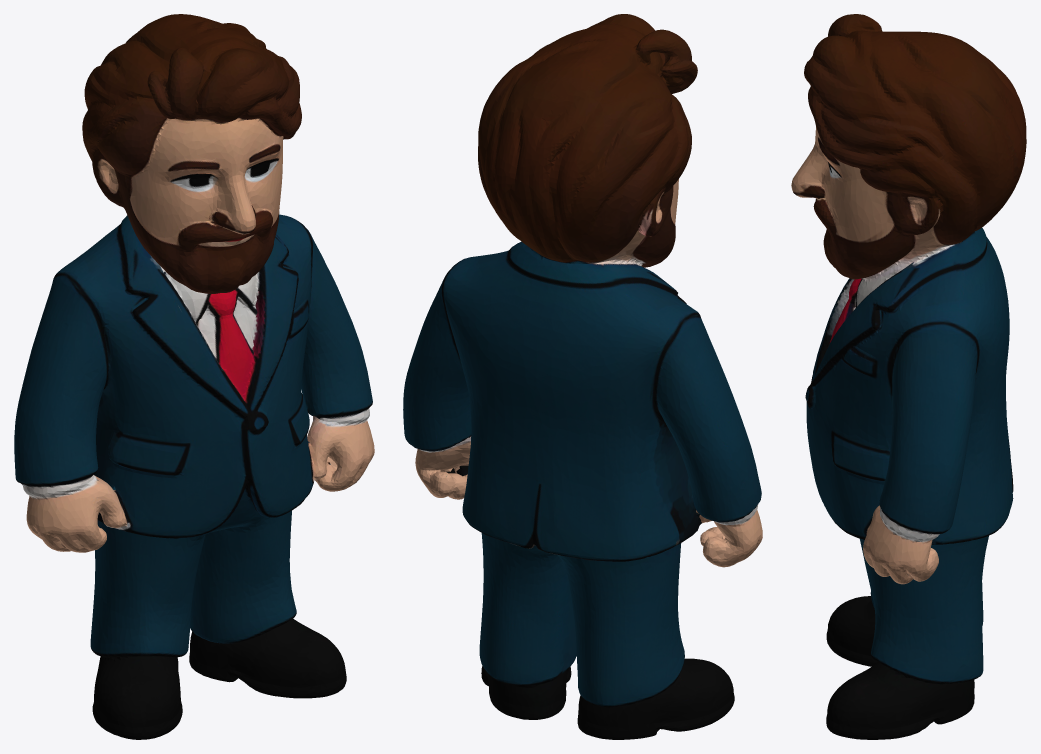
The model's file is raw_textured.glb.
The picture shows the model from 3 angles, left to right: view 1: azimuth 30°, elevation 25°; view 2: azimuth 150°, elevation 25°; view 3: azimuth 270°, elevation 25°; orthographic projection. The views are drawn at different scales.
Parts seen in each view (by area): view 1: textured_mesh.obj; view 2: textured_mesh.obj; view 3: textured_mesh.obj.
Part boxes in pixels (box(x1,y1,x2,y2)): textured_mesh.obj: box(14, 14, 374, 739); textured_mesh.obj: box(403, 14, 762, 739); textured_mesh.obj: box(791, 14, 1026, 739).
Bounding box in the file's own units: 1.08 × 1.99 × 0.6518.
1 material, 1 textured.
